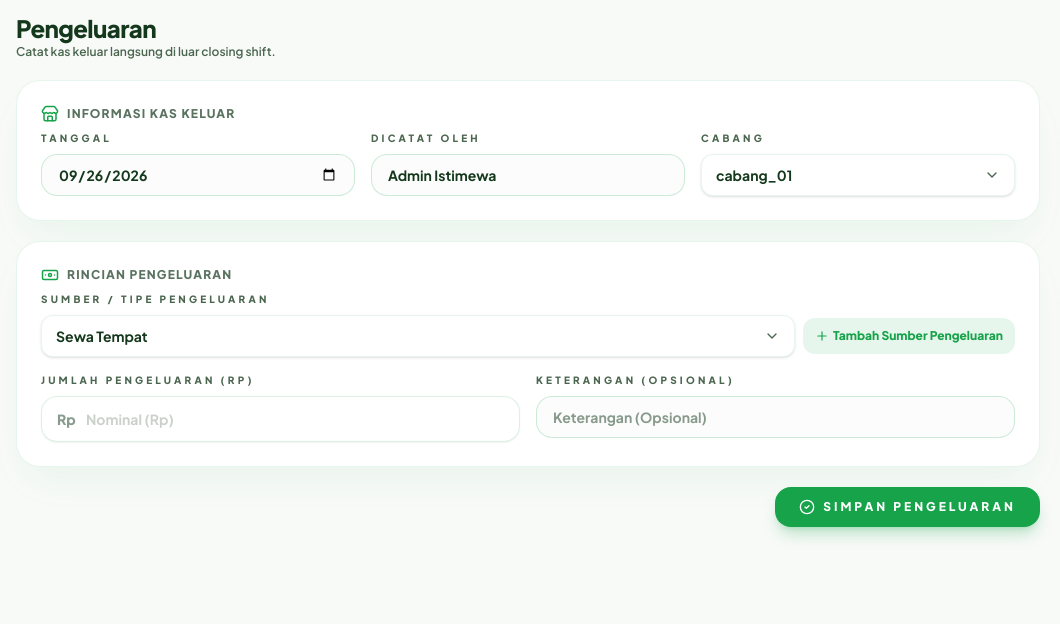
Scenario: PengeluaranPanel › validates nominal > 0
The image size is (1060, 624).
Click the button "Simpan Pengeluaran". click: (908, 507)
box: [775,487,1040,527]
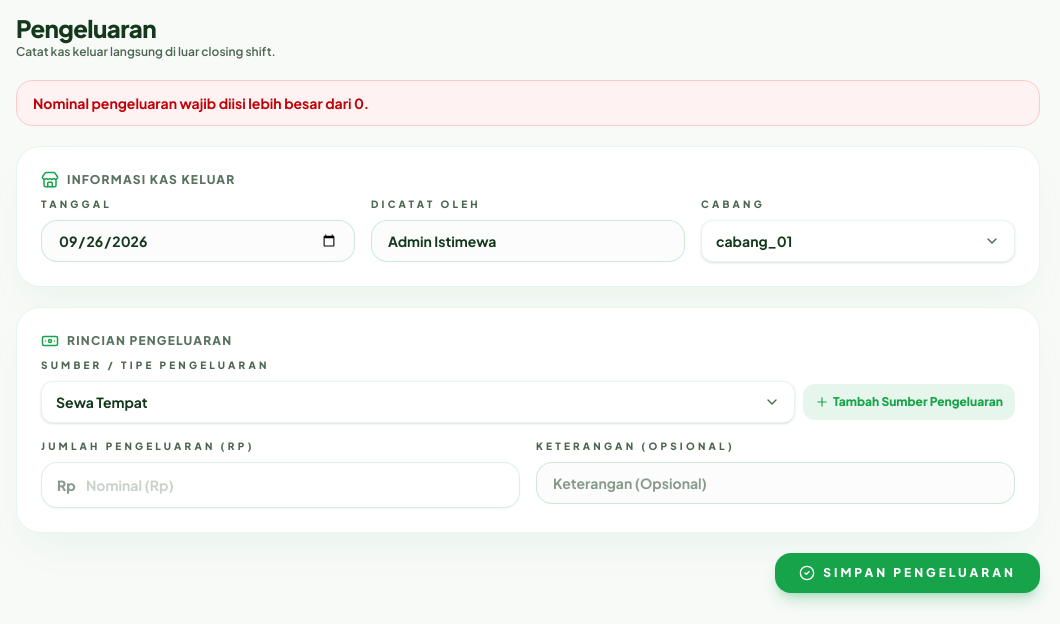
Check: the text "Nominal pengeluaran wajib diisi lebih besar dari 0." is shown, box [16,80,1040,126]
